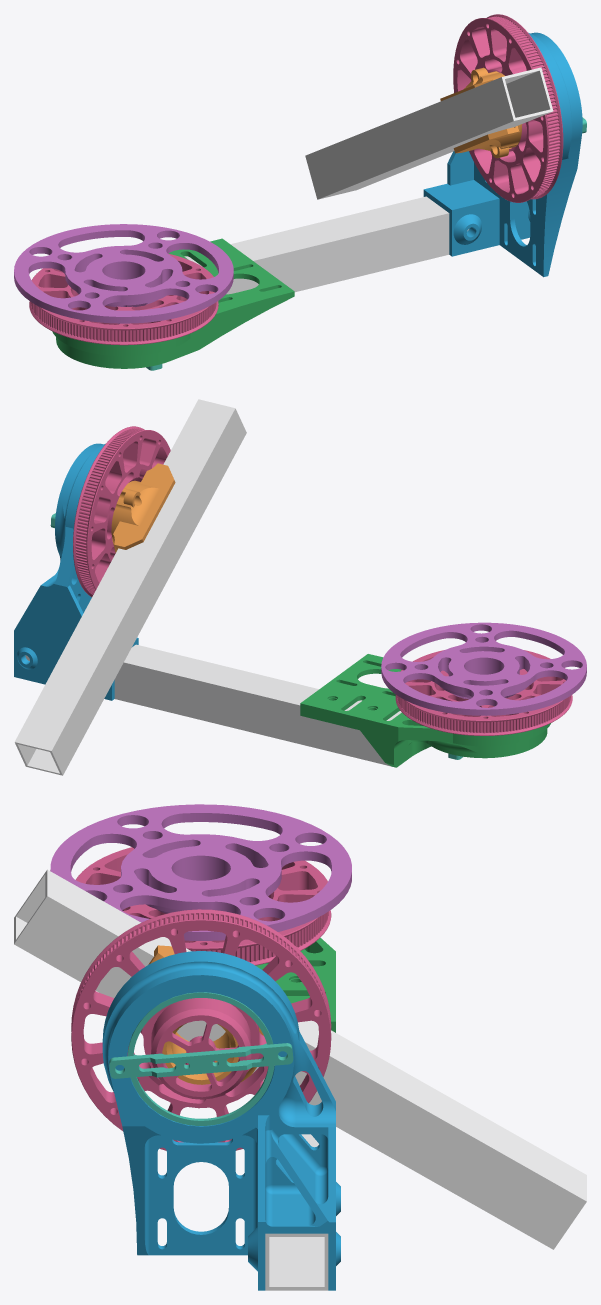
Rendered from Orbiter.fbx.
The picture shows the model from 3 angles, top to bottom: view 1: azimuth 30°, elevation 25°; view 2: azimuth 150°, elevation 25°; view 3: azimuth 270°, elevation 25°; orthographic projection. The views are drawn at different scales.
Visible parts, largest first — view 1: BasePulley (×2), BasePlatformInsert, OrbitArm, MainRail, OrbitMount, BaseMount, OrbitBarInsert; view 2: OrbitArm, MainRail, BasePlatformInsert, BasePulley (×2), BaseMount, OrbitMount, OrbitBarInsert; view 3: OrbitMount, OrbitArm, BasePulley (×2), BasePlatformInsert, BaseSensor, MainRail, BaseMount, OrbitBarInsert.
Part boxes in pixels (box(x1,y1,x2,y2)): BasePulley (×2): box(29, 14, 563, 345); BasePlatformInsert: box(14, 224, 233, 323); OrbitArm: box(305, 67, 553, 199); MainRail: box(184, 196, 468, 294); OrbitMount: box(423, 32, 582, 277); BaseMount: box(52, 238, 294, 368); OrbitBarInsert: box(440, 67, 522, 158); OrbitArm: box(14, 399, 246, 775); MainRail: box(25, 644, 401, 766); BasePlatformInsert: box(381, 622, 586, 715); BasePulley (×2): box(73, 426, 572, 735); BaseMount: box(300, 654, 550, 767); OrbitMount: box(14, 443, 138, 700); OrbitBarInsert: box(111, 463, 175, 552); OrbitMount: box(102, 951, 340, 1290); OrbitArm: box(14, 869, 586, 1249); BasePulley (×2): box(71, 847, 331, 1150); BasePlatformInsert: box(50, 804, 351, 940); BaseSensor: box(109, 992, 293, 1125); MainRail: box(265, 1134, 328, 1290); BaseMount: box(256, 937, 335, 1032); OrbitBarInsert: box(148, 945, 263, 1084).
Size of the model in its own units: 346 by 155 by 228.
